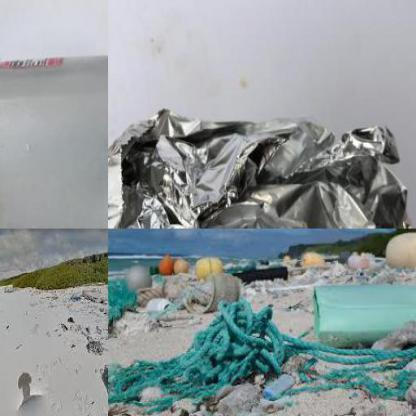Plastic: (165, 298, 283, 387), (315, 283, 415, 344)
